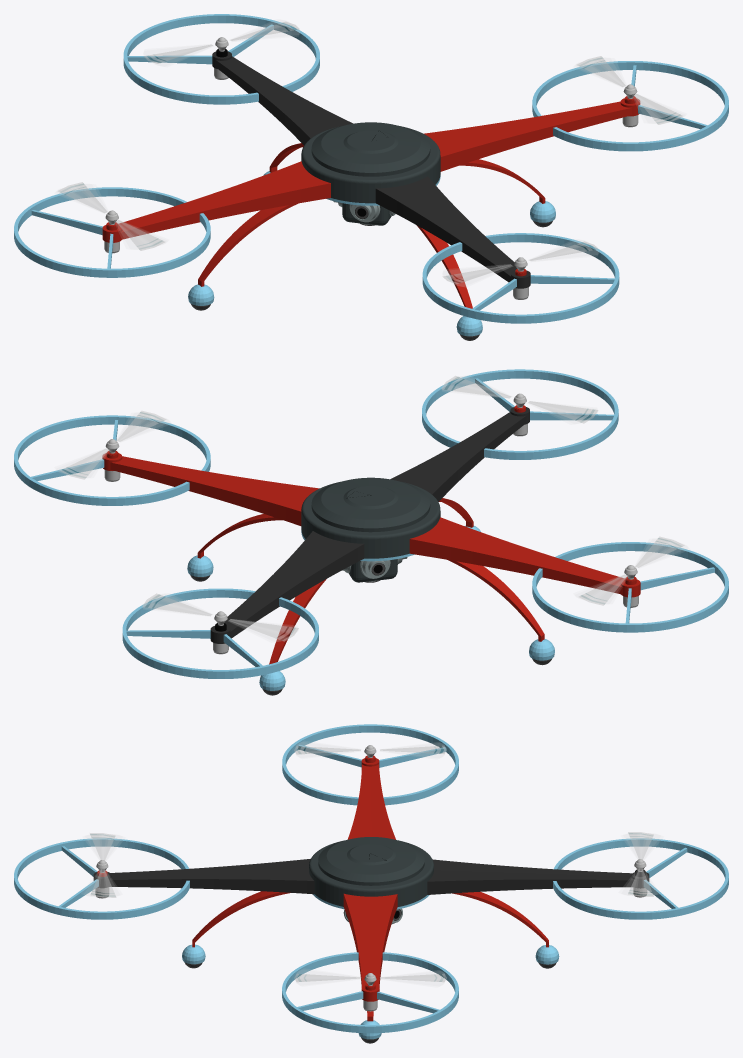
Rendered from drone.obj.
3 renders of one model, top to bottom at view 1: azimuth 30°, elevation 25°; view 2: azimuth 150°, elevation 25°; view 3: azimuth 270°, elevation 25°, orthographic. The views are drawn at different scales.
Parts seen in each view (by area): view 1: Group132, Group47, Group145, Group140, Group150, Group135, Group100, Group91, Group21, Group48, Group90, Group99 (+12 smaller); view 2: Group132, Group48, Group145, Group140, Group135, Group150, Group99, Group21, Group91, Group47, Group22, Group100 (+16 smaller); view 3: Group132, Group22, Group90, Group150, Group135, Group145, Group140, Group99, Group100, Group91, Group21, Group48 (+3 smaller).
Part boxes in pixels (box(x1,y1,x2,y2)): Group132: box(301, 122, 440, 203); Group47: box(120, 174, 330, 239); Group145: box(532, 61, 728, 151); Group140: box(14, 187, 210, 277); Group150: box(422, 233, 619, 323); Group135: box(123, 14, 319, 104); Group100: box(437, 105, 632, 171); Group91: box(375, 185, 513, 282); Group21: box(215, 60, 329, 145); Group48: box(118, 161, 309, 226); Group90: box(405, 176, 517, 270); Group99: box(424, 101, 621, 143); Group132: box(301, 477, 440, 558); Group48: box(409, 530, 623, 594); Group145: box(14, 415, 210, 505); Group140: box(532, 542, 728, 632); Group135: box(122, 588, 318, 678); Group150: box(422, 369, 618, 459); Group99: box(110, 460, 305, 525); Group21: box(227, 540, 364, 638); Group91: box(413, 415, 526, 501); Group47: box(431, 517, 624, 581); Group22: box(225, 531, 334, 625); Group100: box(121, 456, 319, 498); Group132: box(309, 837, 433, 906); Group22: box(427, 870, 637, 894); Group90: box(105, 870, 314, 894); Group150: box(14, 838, 189, 919); Group135: box(553, 838, 728, 919); Group145: box(282, 952, 458, 1033); Group140: box(282, 724, 458, 805); Group99: box(370, 894, 397, 987); Group100: box(343, 893, 370, 987); Group91: box(110, 858, 310, 876); Group21: box(432, 859, 631, 876); Group48: box(370, 764, 395, 839).
Size of what is drawn, in the model's own units: 41.82 by 7.37 by 41.82.
